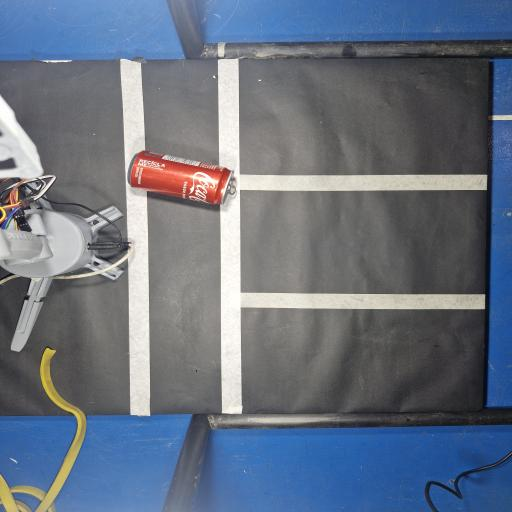lata: (128, 151, 235, 204)
